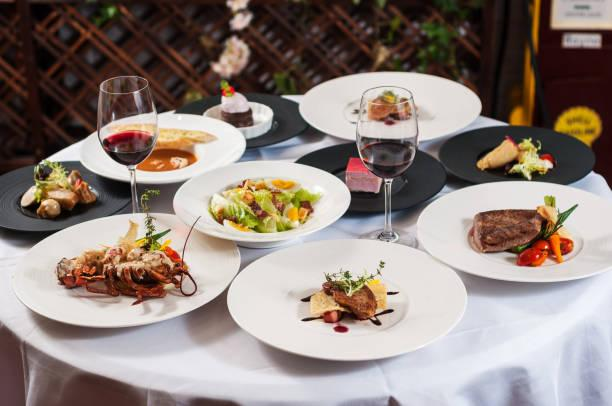Braised Crucian Carp: (227, 238, 461, 360), (11, 213, 237, 328), (418, 180, 611, 283), (174, 160, 347, 247), (0, 157, 136, 235), (438, 124, 597, 186)
